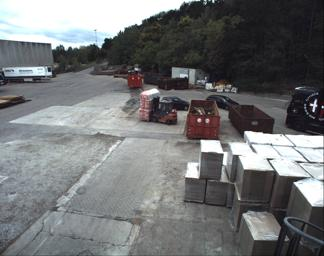rockwool_batts: (138, 85, 159, 121)
